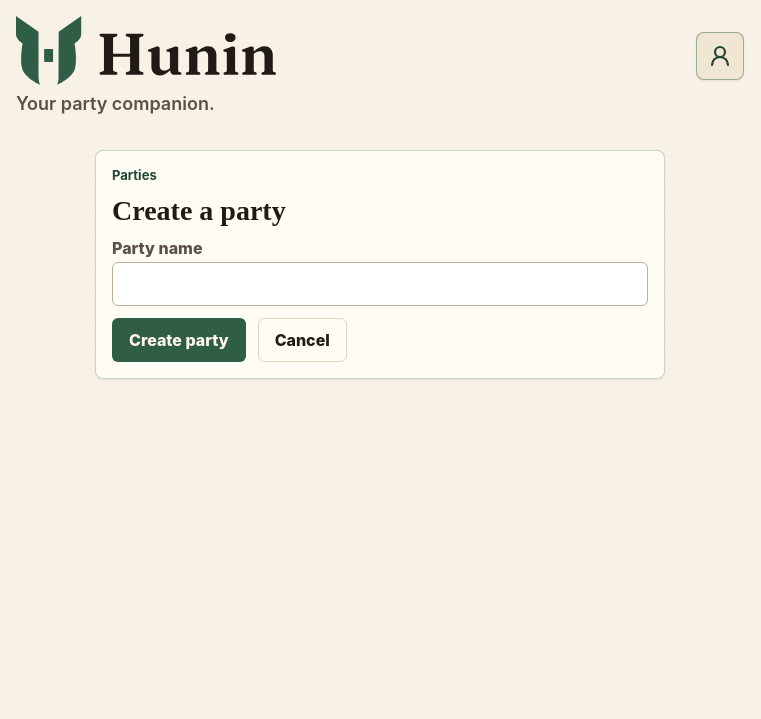
Test case: App › navigates signed-in Party creation success to Party detail
Type "The Lantern Guard" into the field labelled "Party name".
click(380, 284); type("The Lantern Guard")  # box [112,262,648,306]
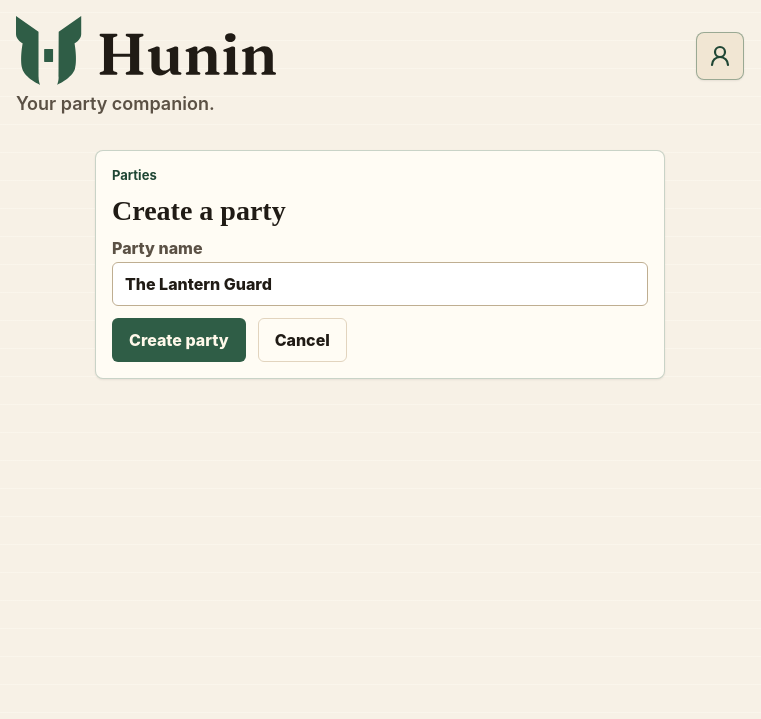
Click the button "Create party".
click(179, 340)  # box [112,318,246,362]
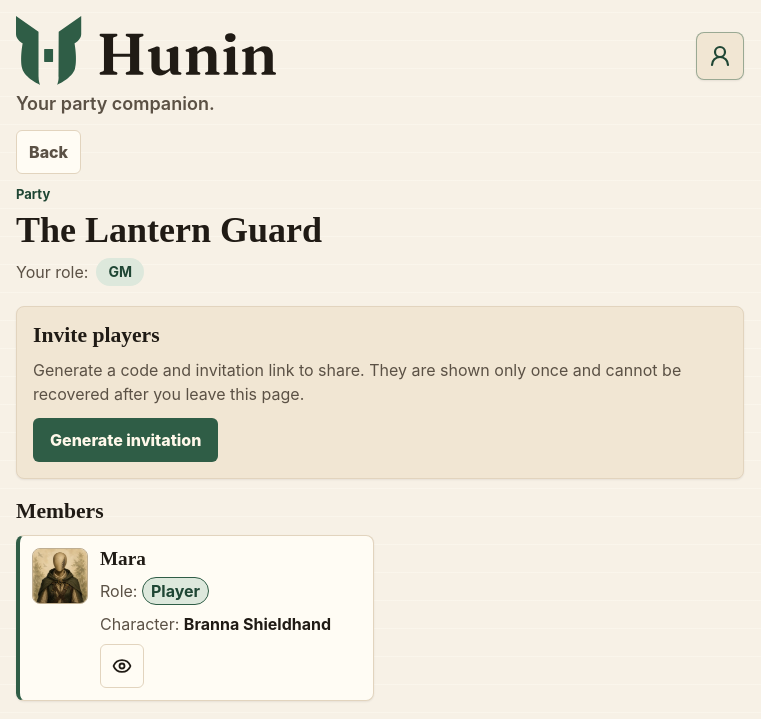
Expected: the heading "The Lantern Guard" is shown, [16,210,322,250]
